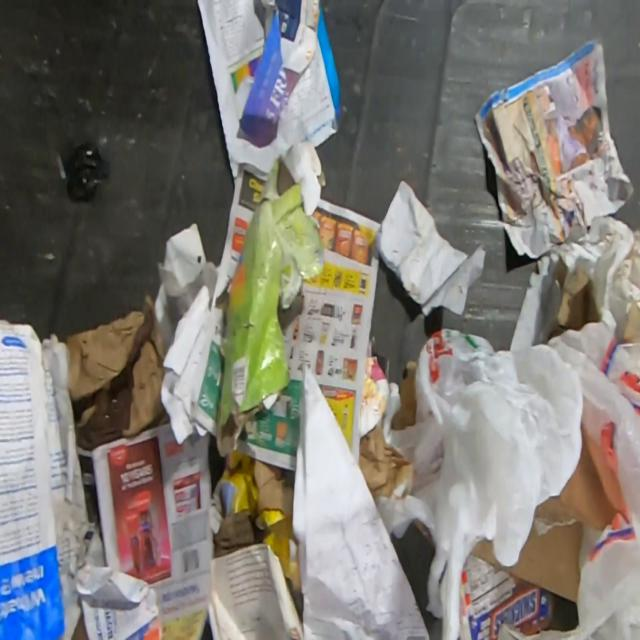cardboard: (214, 138, 328, 458), (64, 294, 170, 453), (212, 448, 302, 592), (471, 498, 583, 604), (358, 425, 412, 498), (554, 257, 602, 330), (391, 360, 417, 430), (413, 520, 435, 550)
rigid_plastic: (53, 140, 110, 203)
soft_plastic: (374, 326, 584, 640), (496, 320, 640, 640)
